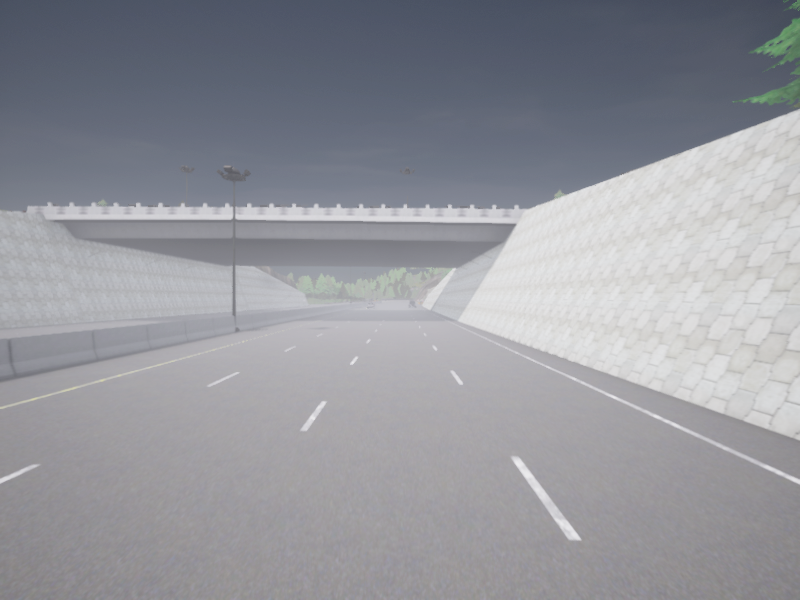vehicle: (408, 301, 415, 307), (368, 302, 374, 308)
